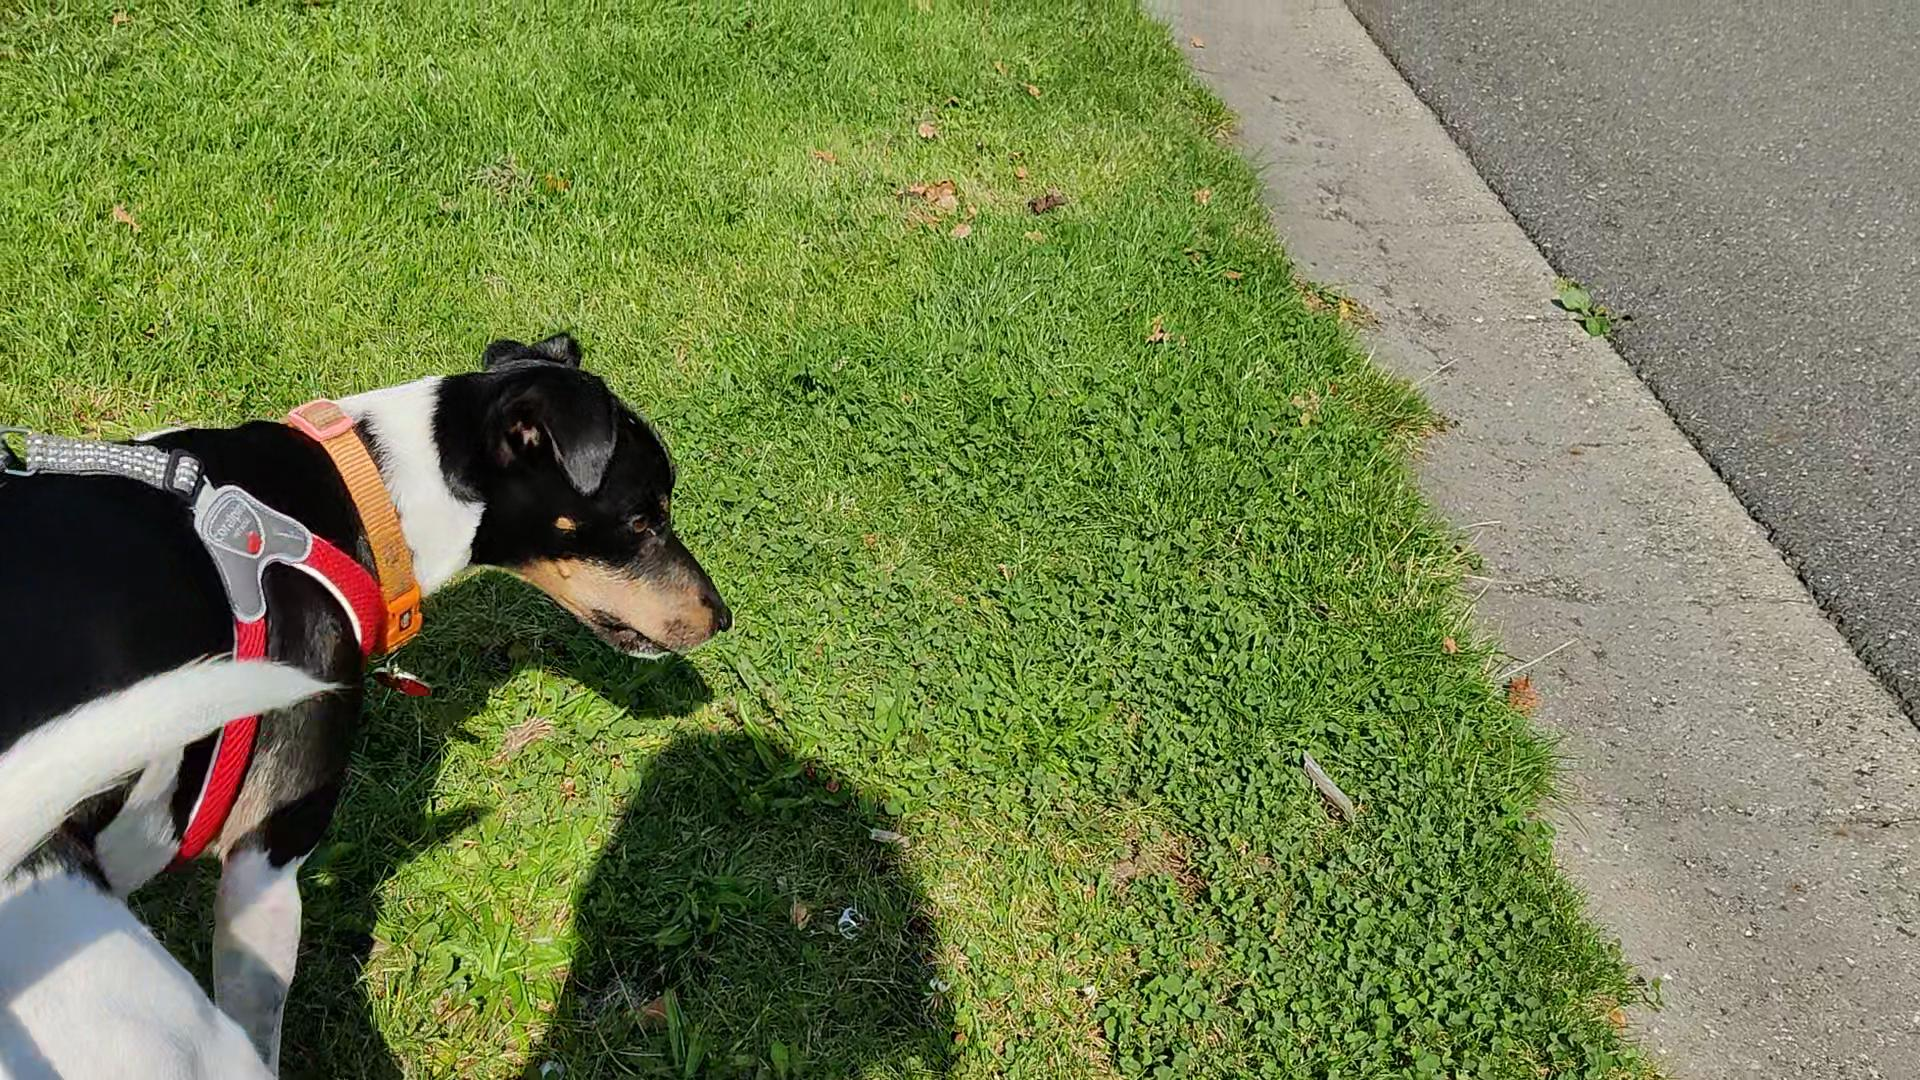Dog: (0, 322, 742, 1079)
